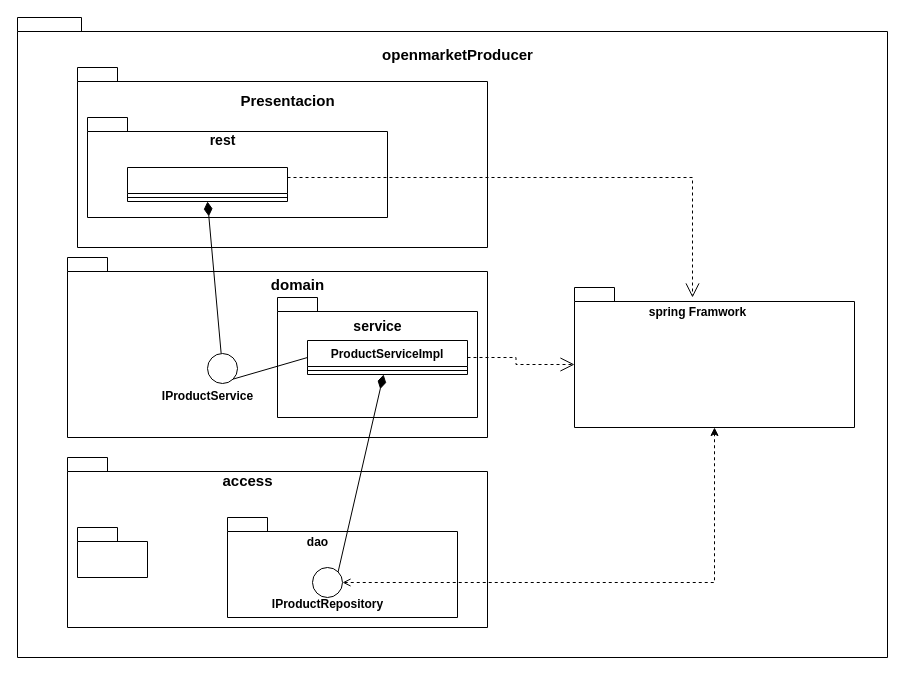
Some shapes in this 905 by 675 pixel diagram are drawn without their labels. Here are the shapes that lost their labels. From the top down, the centre of each, then its label:
(x=207, y=184): ProductController
(x=112, y=552): package
